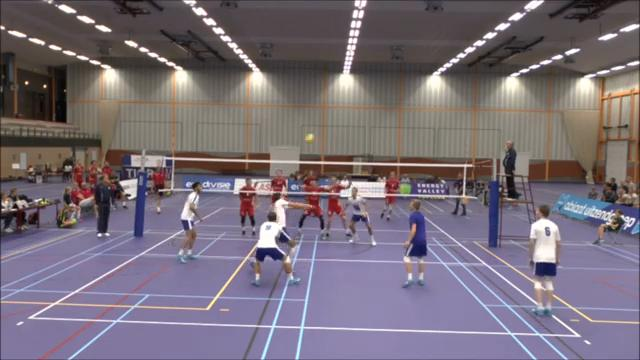ricezione: (266, 187, 312, 256)
